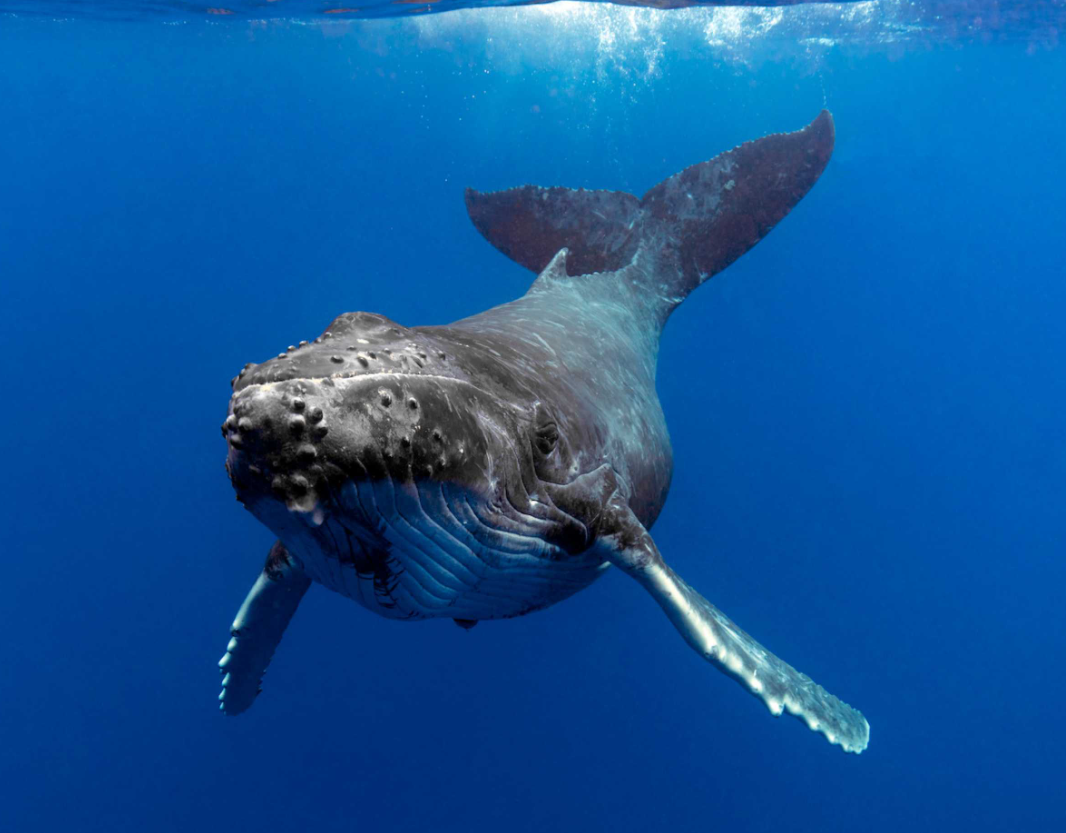Humpback whale: (212, 107, 871, 772)
